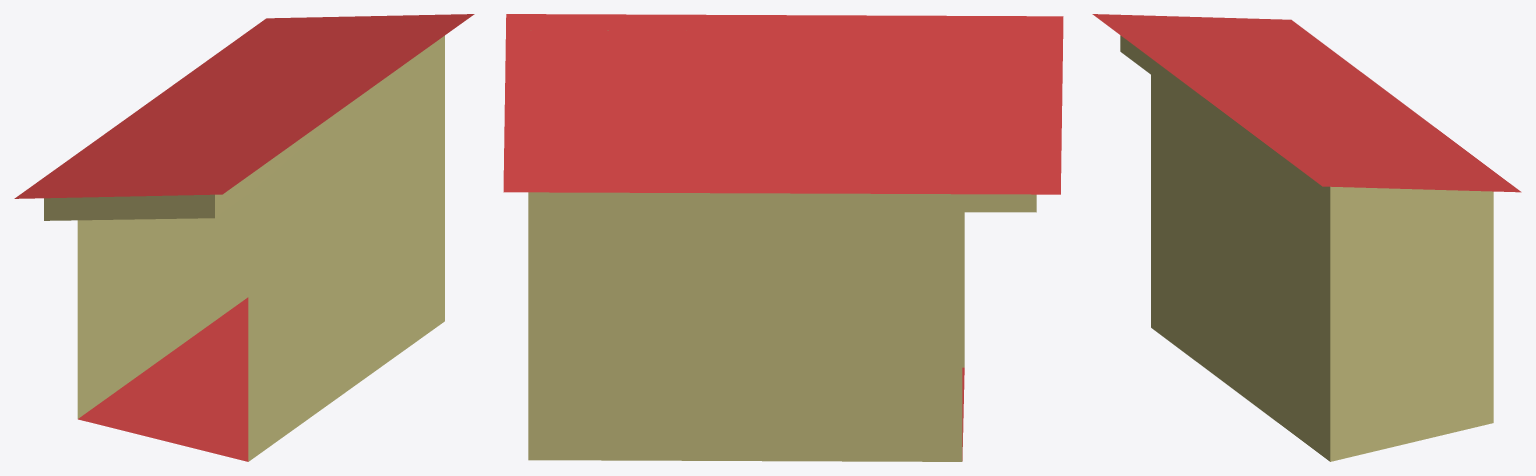
The picture shows the model from 3 angles, left to right: view 1: azimuth 30°, elevation 25°; view 2: azimuth 150°, elevation 25°; view 3: azimuth 270°, elevation 25°; orthographic projection. The views are drawn at different scales.
Size of the model in its own units: 12.6 by 10.4 by 7.67.
